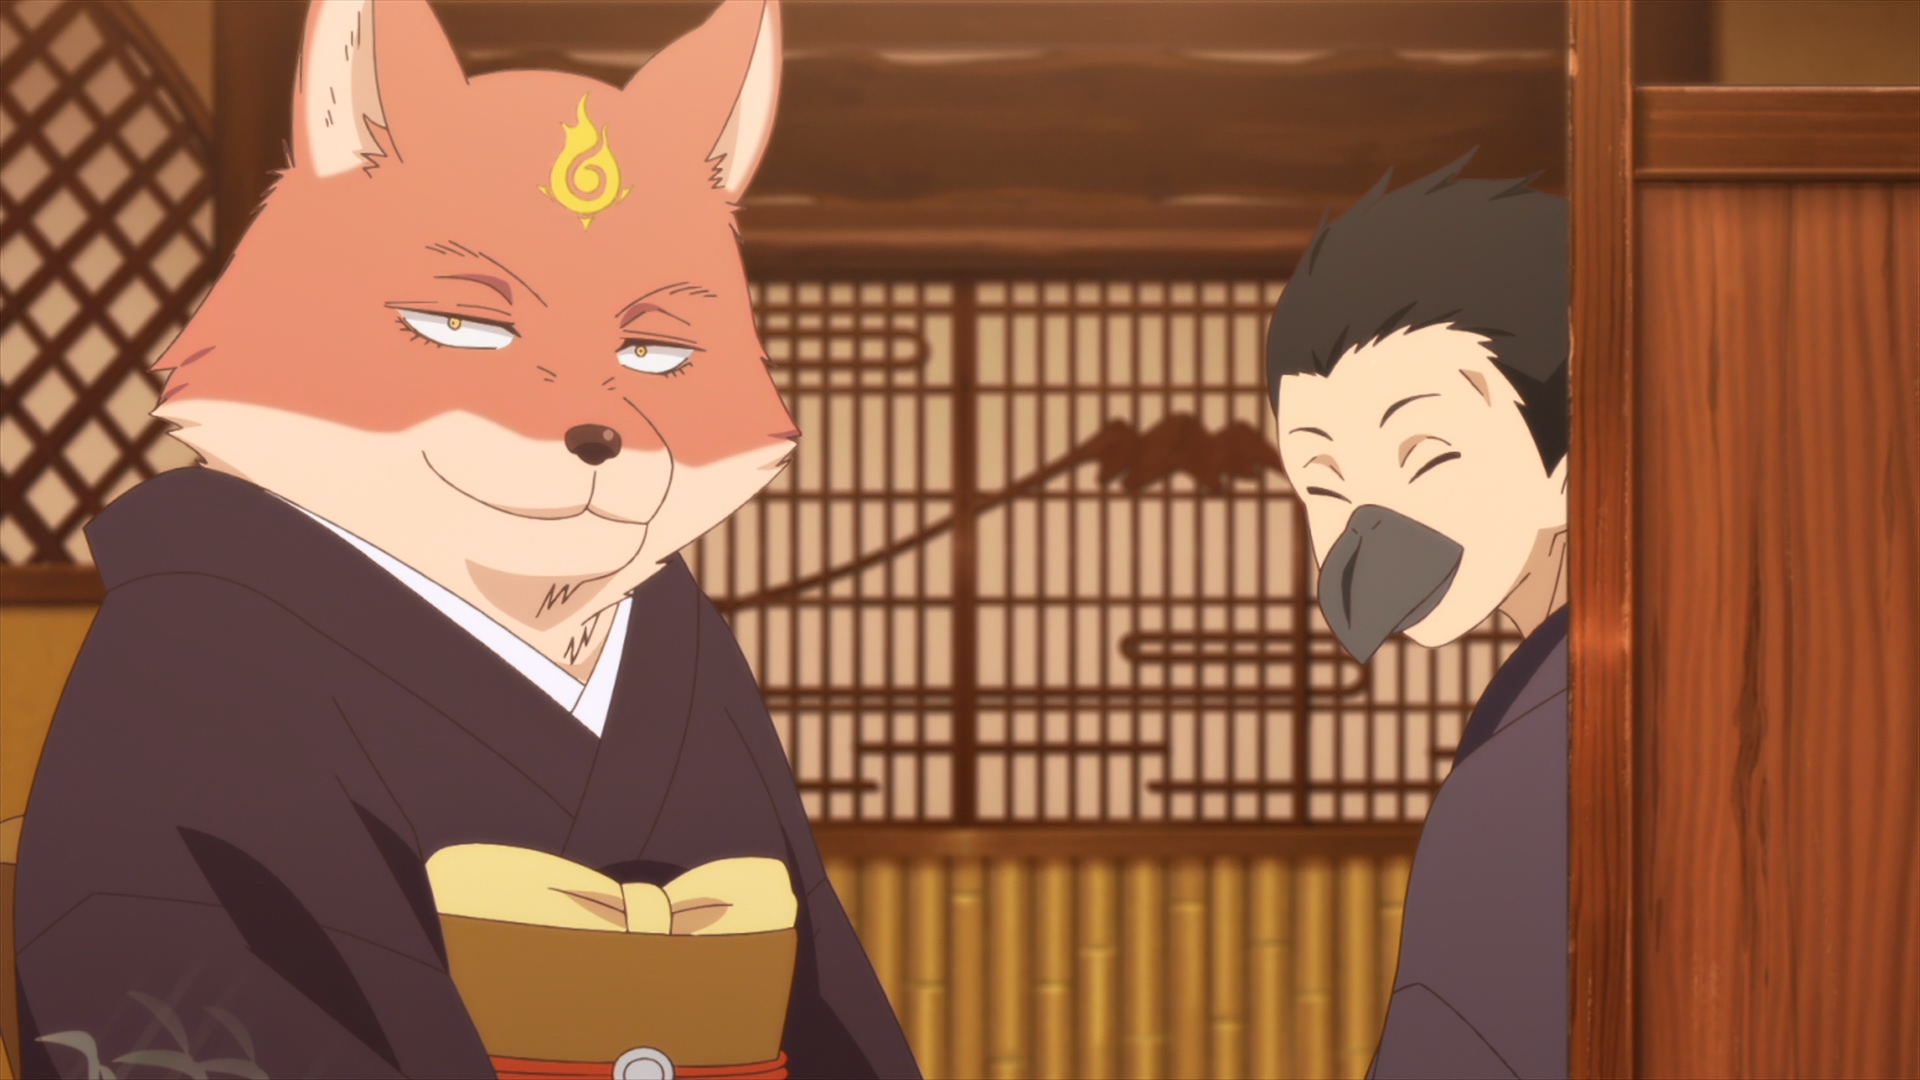其他: (1265, 145, 1564, 1080)
椿: (15, 1, 922, 1080)
